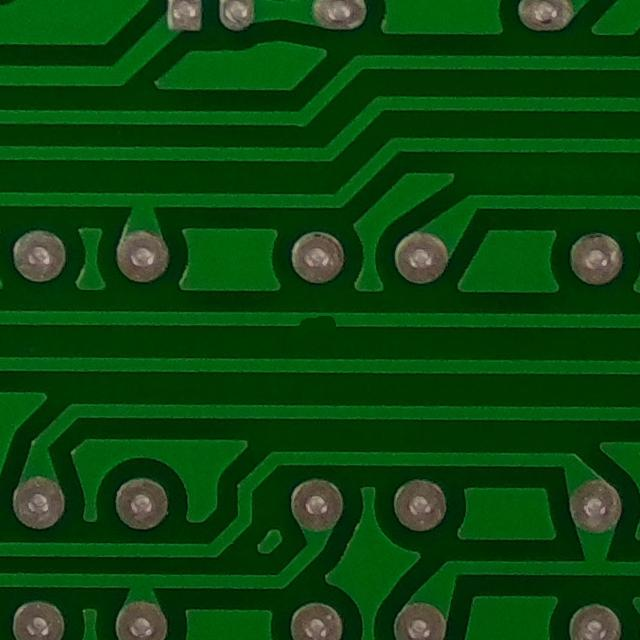mouse_bite: (293, 299, 347, 342)
